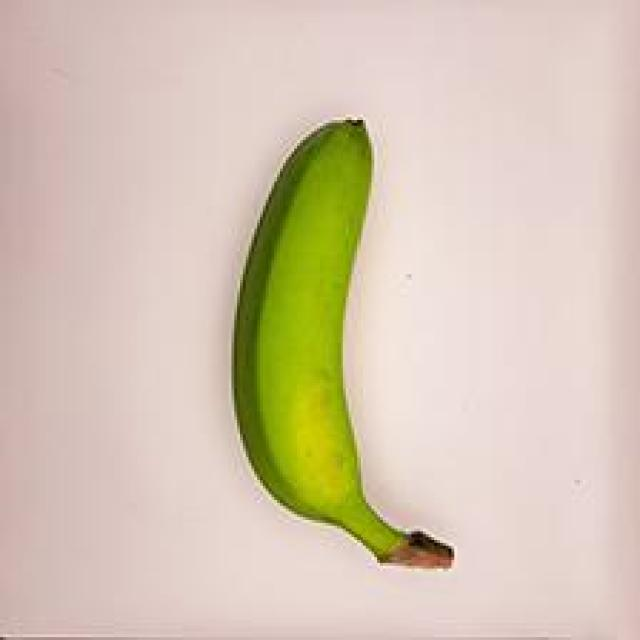Unripe: (226, 95, 474, 597)
